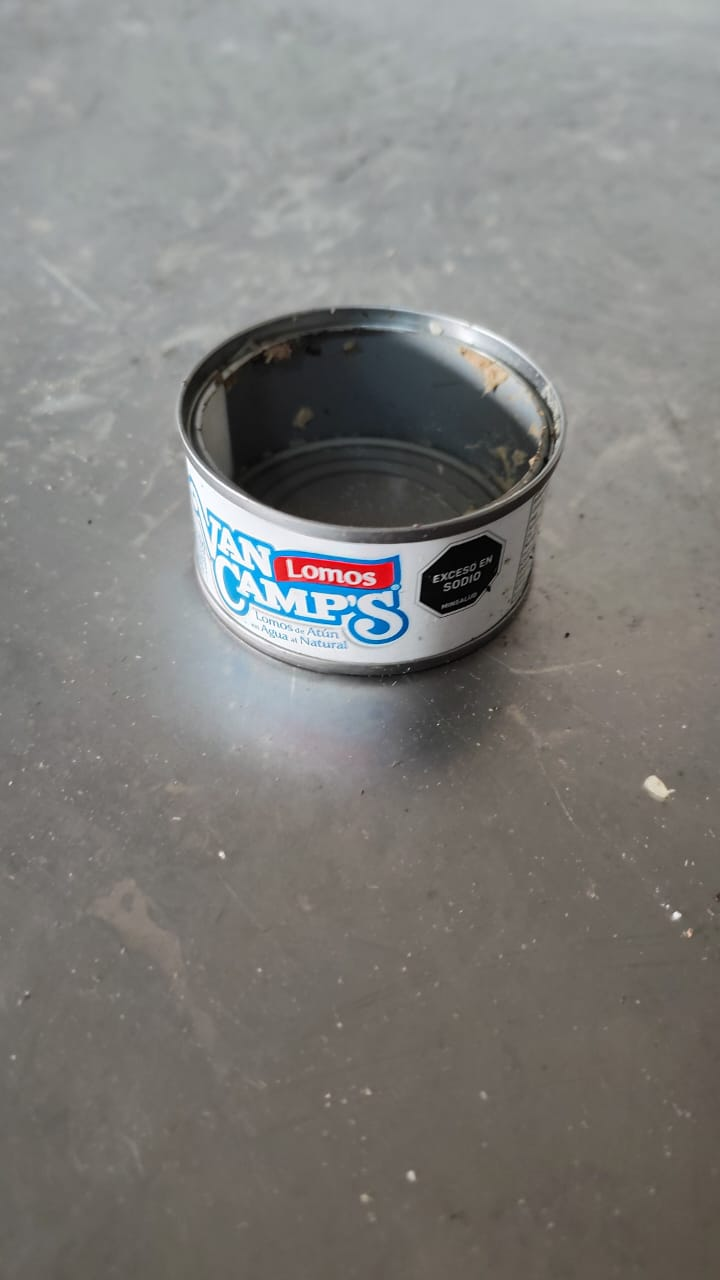Metal: (180, 302, 566, 678)
